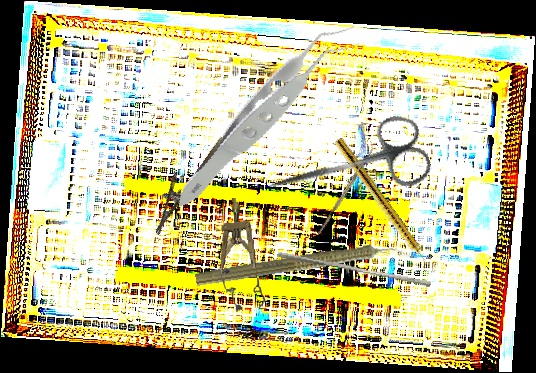Chopper: (312, 141, 379, 235)
Handpiece: (330, 136, 434, 271), (194, 235, 413, 295)
Iris Scissors: (260, 109, 435, 224)
Needle Holder: (140, 127, 227, 235)
Pusher: (276, 251, 432, 288)
Speculum: (212, 196, 268, 313)
Tissue Forceps: (144, 22, 394, 209)
